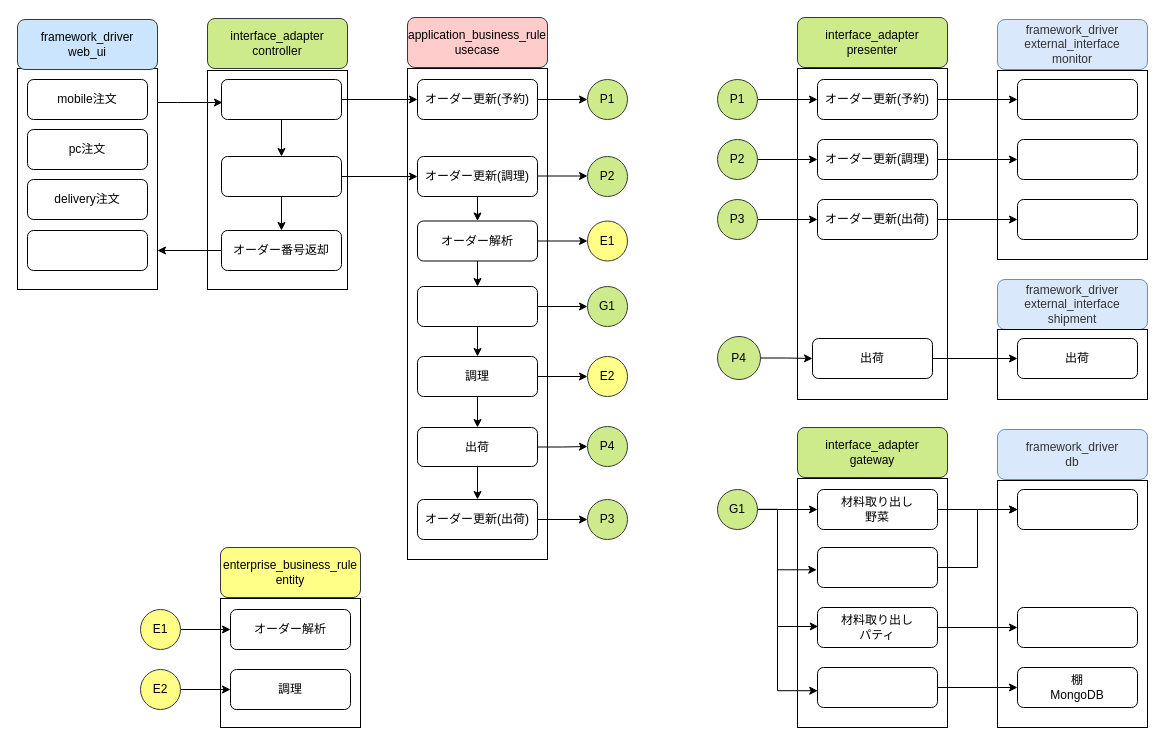
The diagram is 1165 pixels wide and 745 high, and some of its shapes have lost their labels. The centre of each missing label's shape, as x and y in pixels:
"register注文" goes at (87,250).
"オーダーモニター オーダー更新(予約)" goes at (1077,99).
"オーダーモニター オーダー更新(出荷)" goes at (1077,219).
"オーダーモニター オーダー更新(調理)" goes at (1077,159).
"オーダー受付" goes at (281,176).
"オーダー番号取得" goes at (281,99).
"冷凍庫 PostgreSQL" goes at (1077,627).
"冷蔵庫 MySQL" goes at (1077,509).
"材料取り出し" goes at (477,306).
"材料取り出し バンズ" goes at (877,687).
"材料取り出し 乳製品" goes at (877,567).
